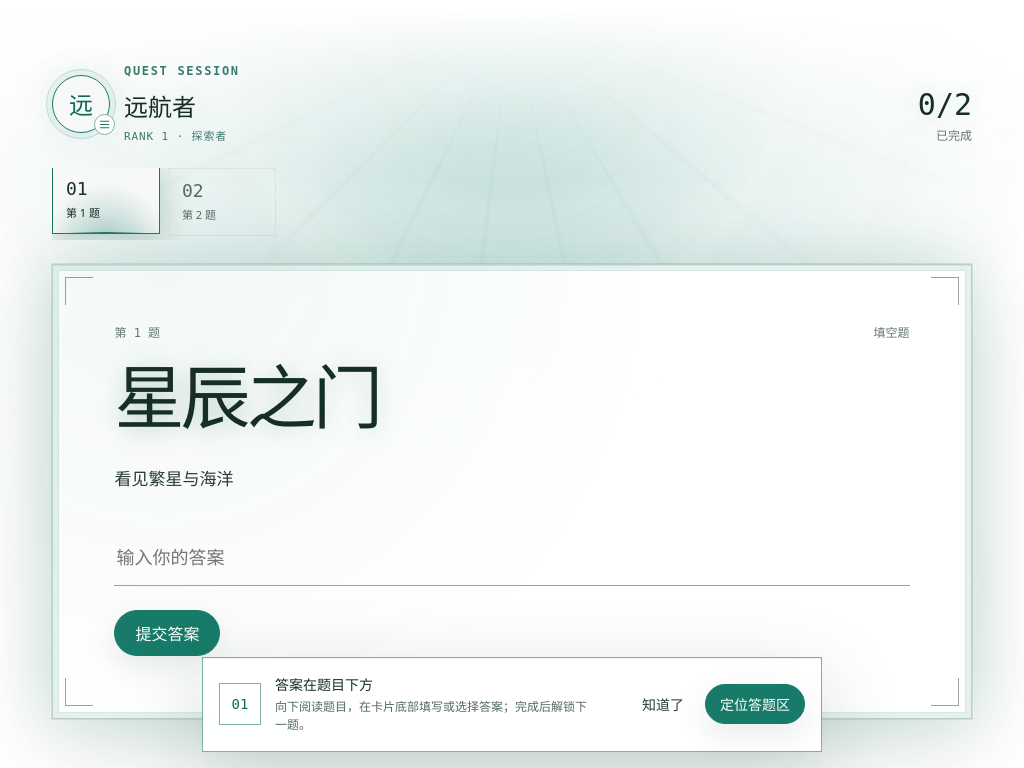
Test case: session and question clue integration › uses explicit effects and the settled auto-next config
Type "星辰大海" into the field with placeholder "输入你的答案" at x=512, y=557, box x1=114 y1=528 x2=910 y2=586
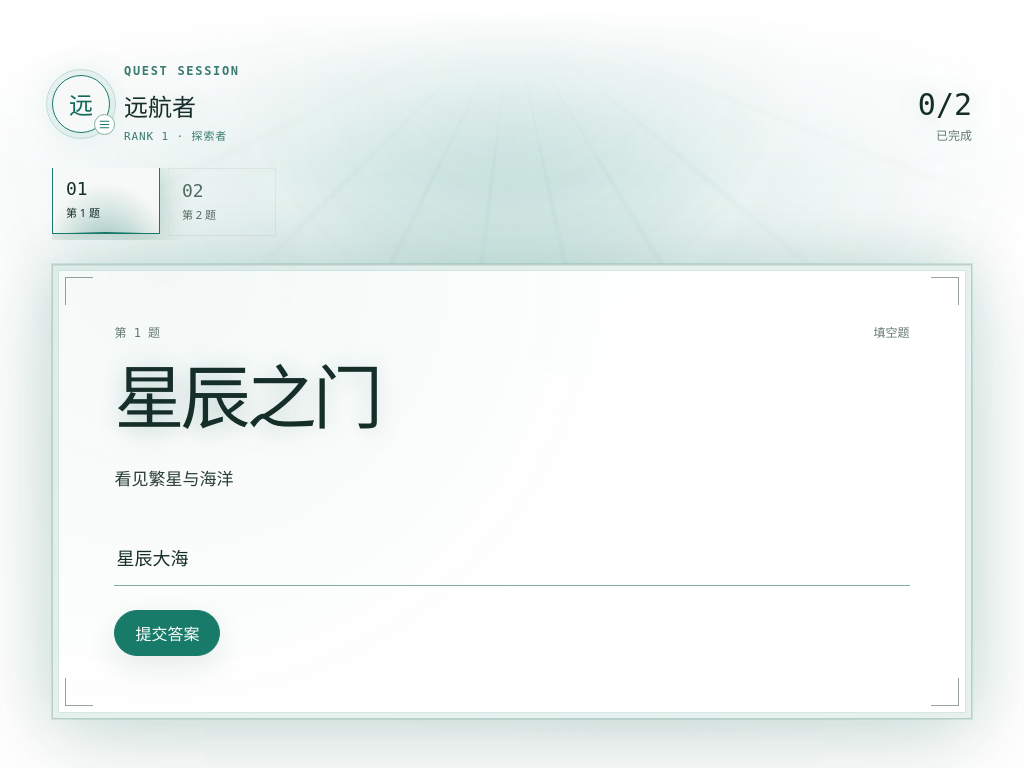
Click the button "提交答案" at x=167, y=633, box x1=114 y1=610 x2=220 y2=656
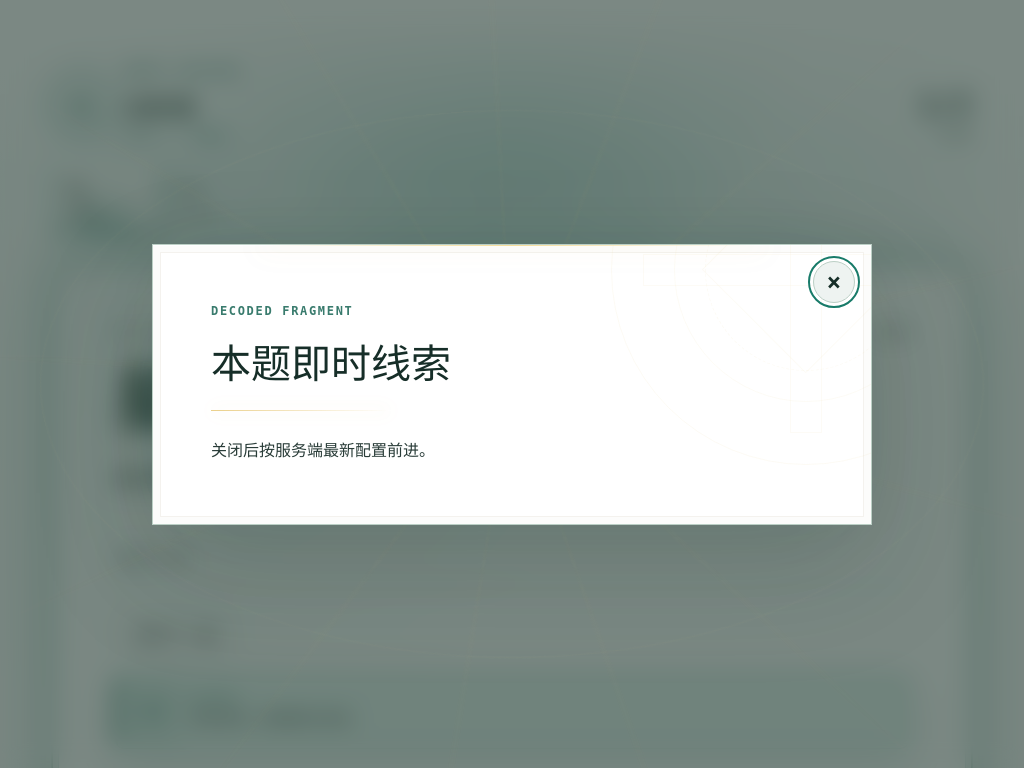
Check: the dialog "本题即时线索" is shown, box x1=152 y1=244 x2=872 y2=524
Click the button named "关闭线索" at x=834, y=282, box x1=813 y1=261 x2=855 y2=303
(page scrolled)
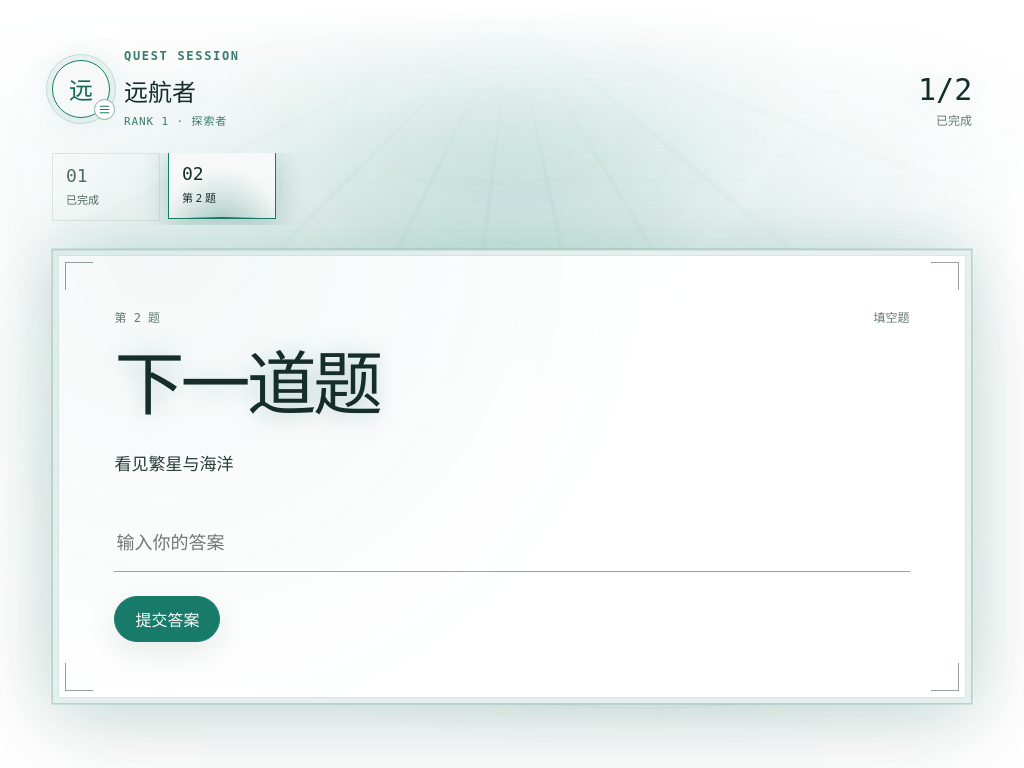
Check: the heading "下一道题" is shown, box x1=114 y1=346 x2=379 y2=423
